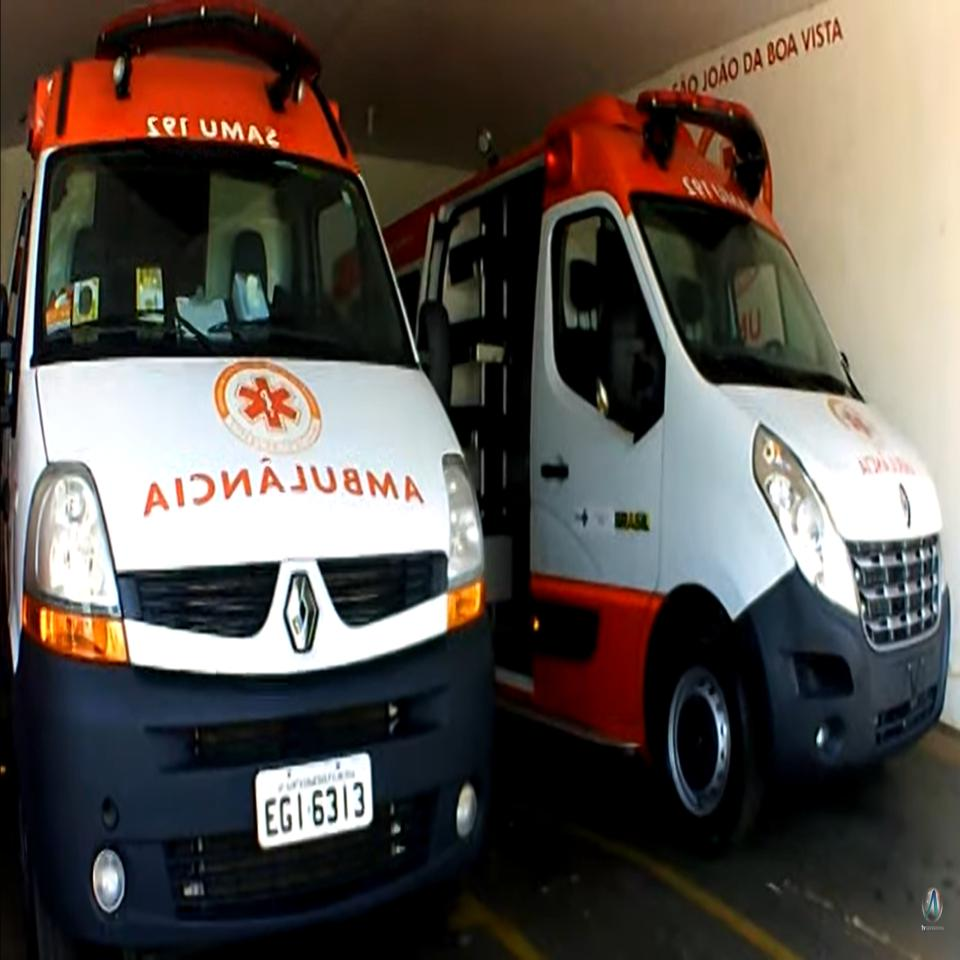bombeiro: (0, 0, 499, 960), (383, 85, 953, 864)
